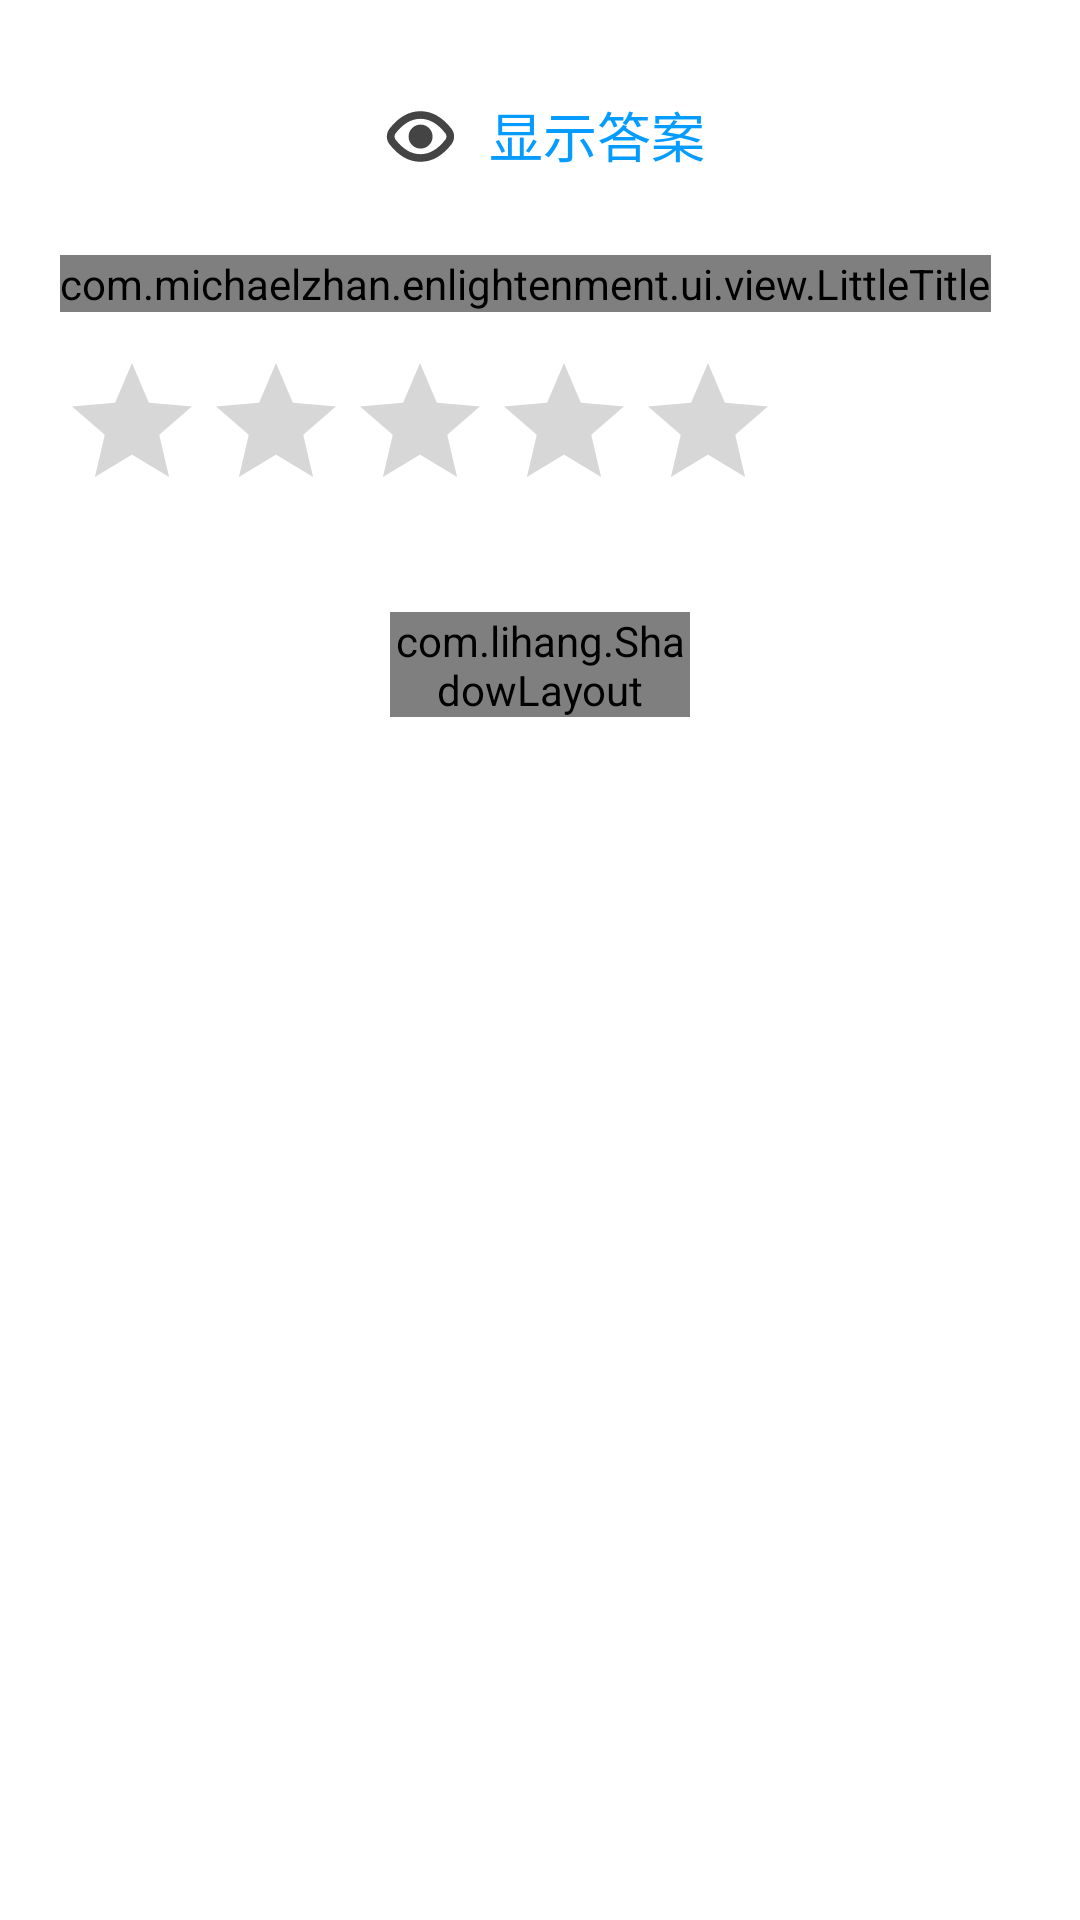

Icon bounding boxes for this 1080px x 1920px phone screenshot, format bbox=(x1, y1, x2, y2):
see: bbox=(386, 111, 454, 162)
